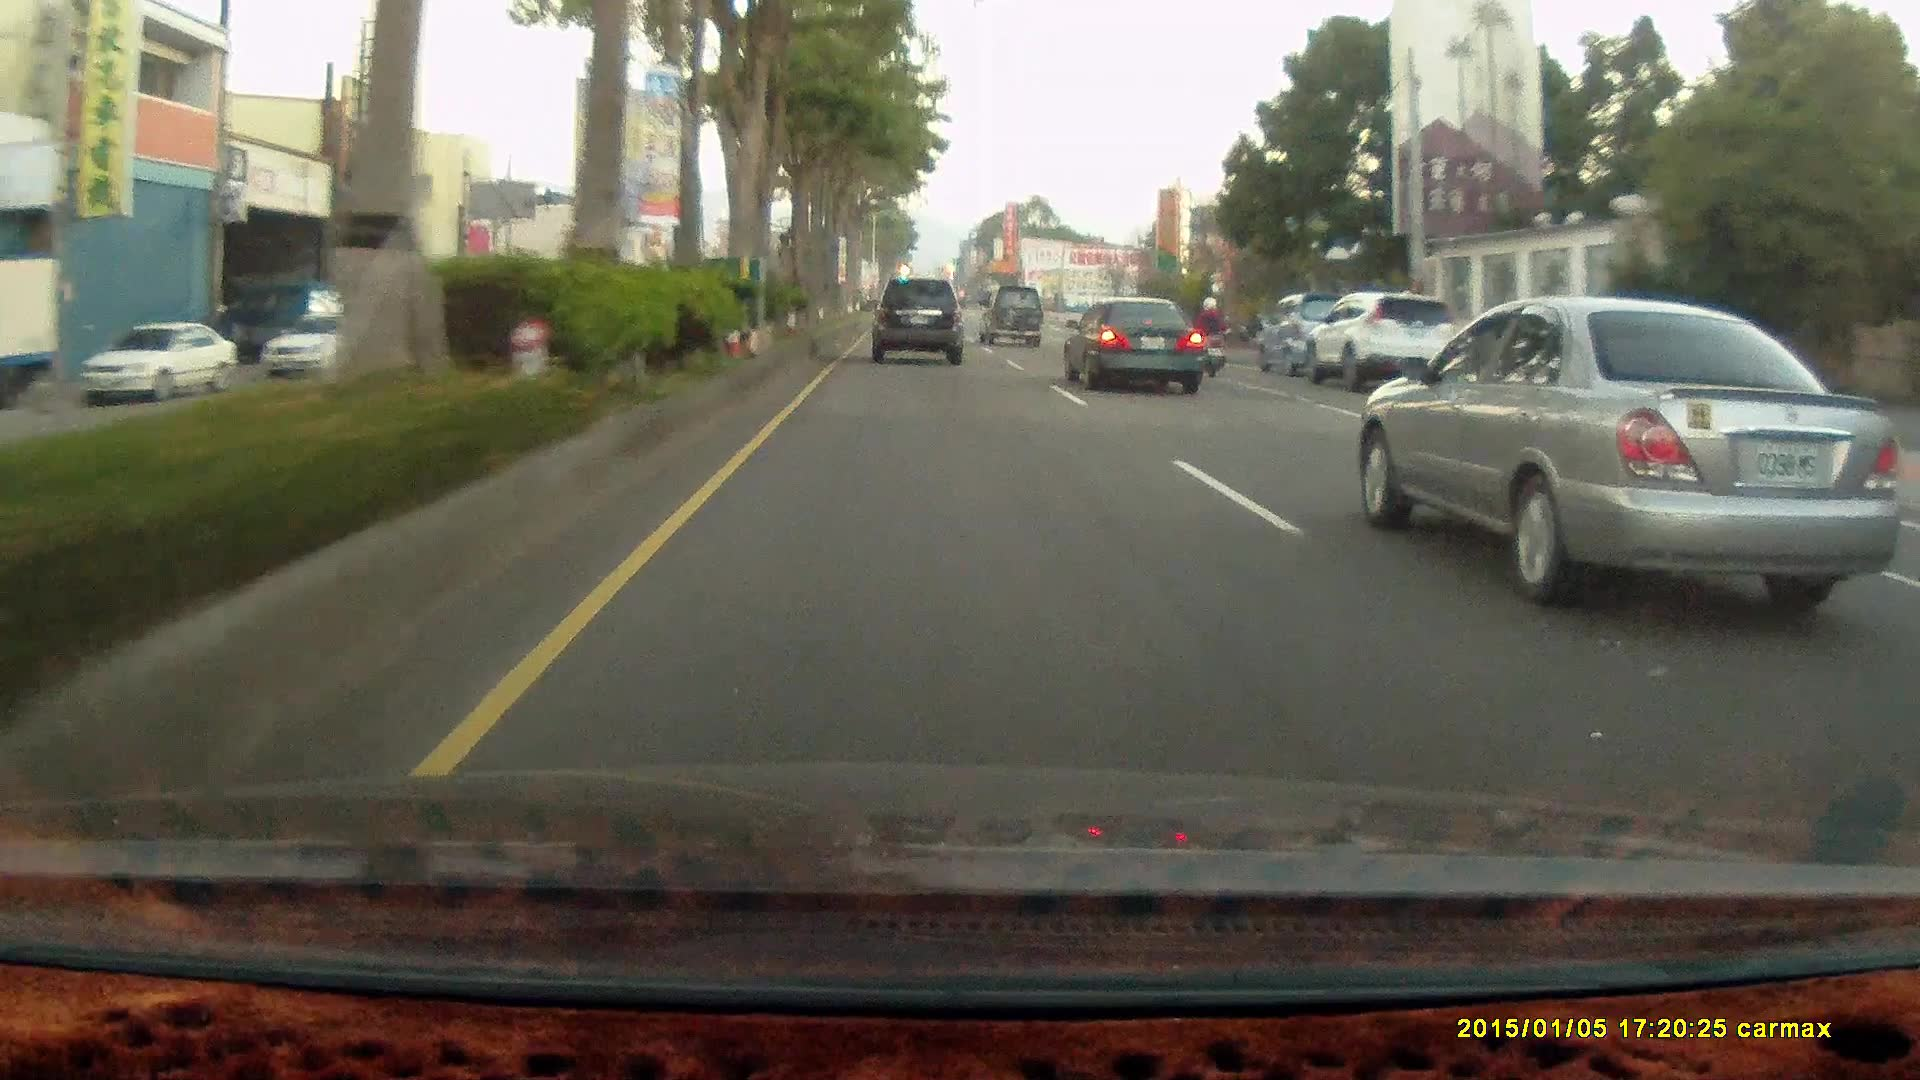rider: (1191, 293, 1229, 377)
vehicle: (1358, 299, 1900, 598), (1302, 292, 1460, 389), (1303, 297, 1460, 393), (1061, 296, 1204, 394), (1064, 298, 1210, 393), (78, 322, 235, 405), (84, 322, 236, 406), (1, 256, 69, 409), (868, 273, 969, 368), (0, 254, 62, 408), (1255, 290, 1368, 375), (266, 315, 393, 383), (866, 277, 962, 365), (980, 286, 1046, 352), (979, 285, 1041, 347)
